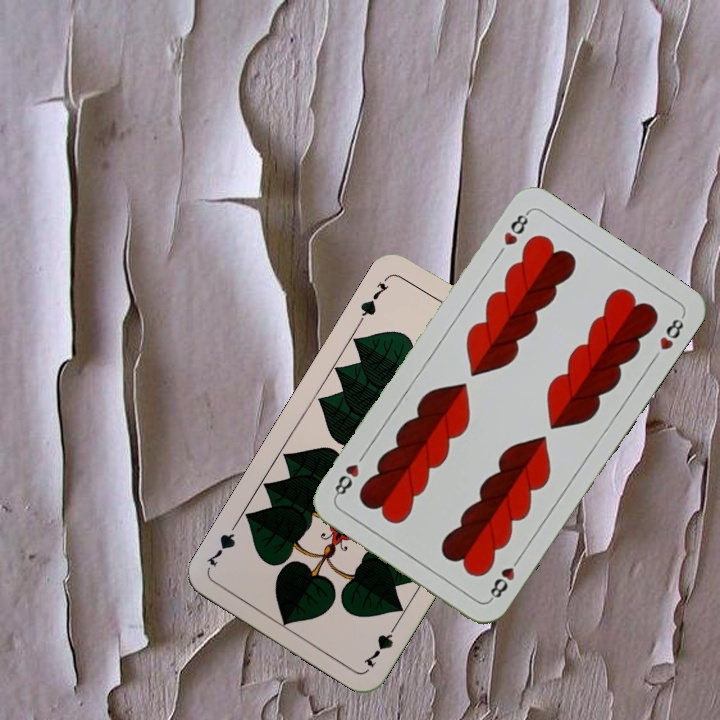G7: (359, 617, 401, 671), (355, 272, 392, 325)
H8: (485, 551, 524, 604), (499, 207, 532, 248)
